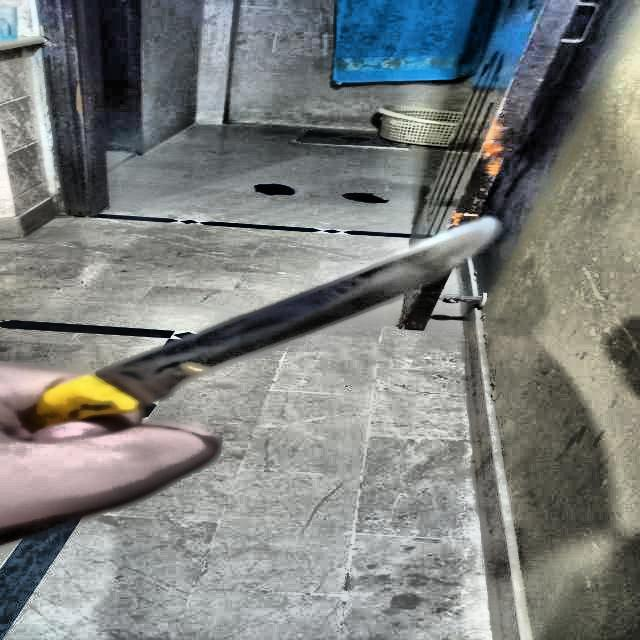knife: (25, 216, 498, 433)
